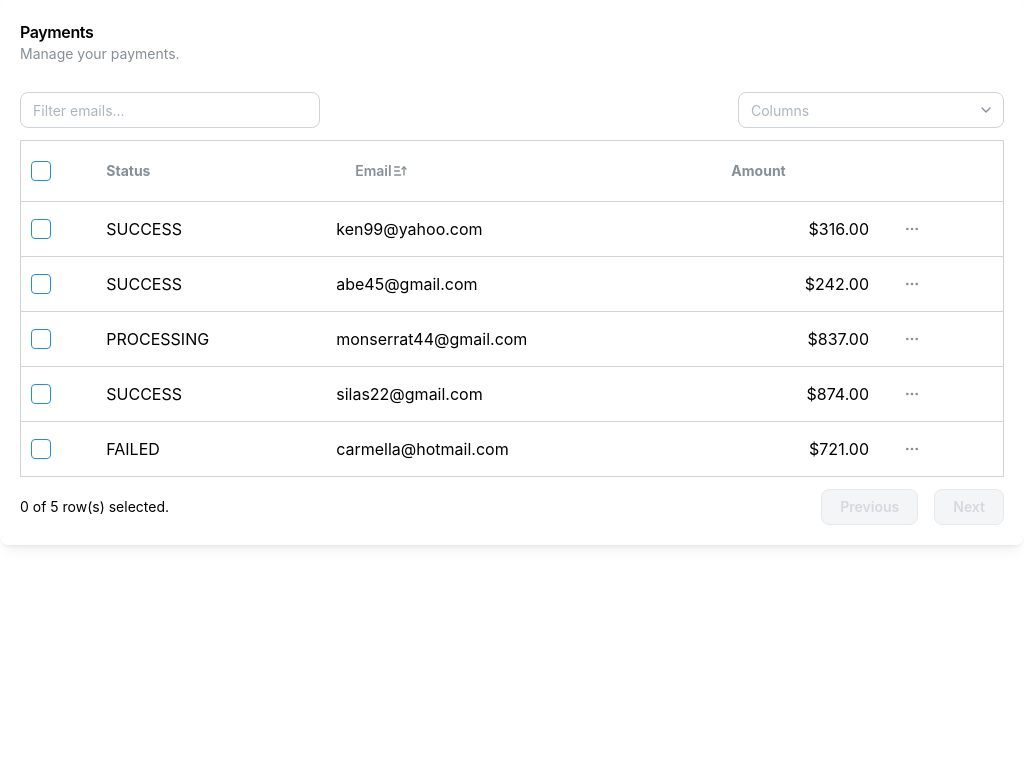
Test: hides and restores columns by their column IDs
Click the dropdown with placeholder "Columns" at (871, 110), box x1=738 y1=92 x2=1004 y2=128
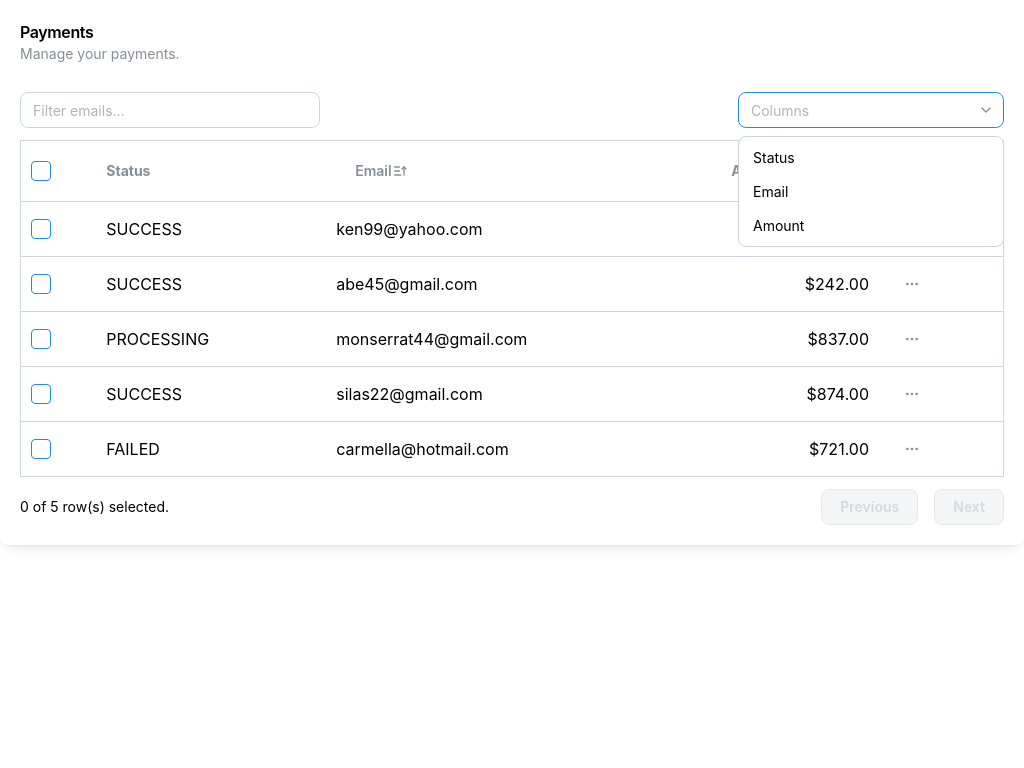
Click the option "Amount" at (779, 225), box x1=753 y1=217 x2=804 y2=234
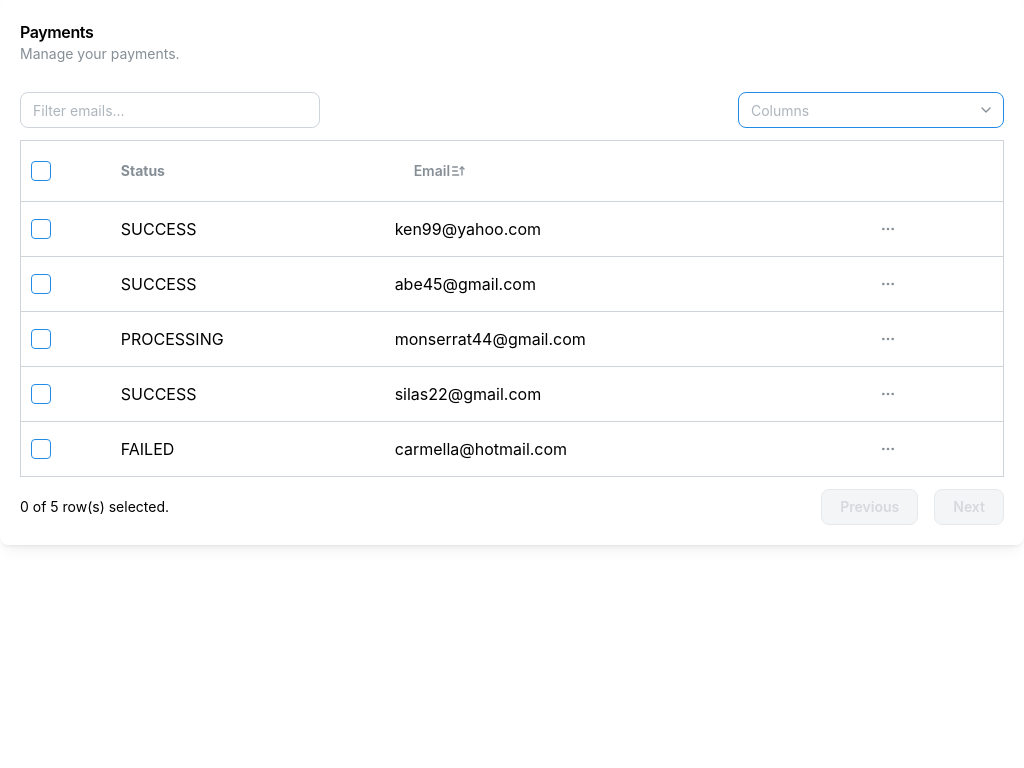
Click the dropdown with placeholder "Columns" at (871, 110), box x1=738 y1=92 x2=1004 y2=128
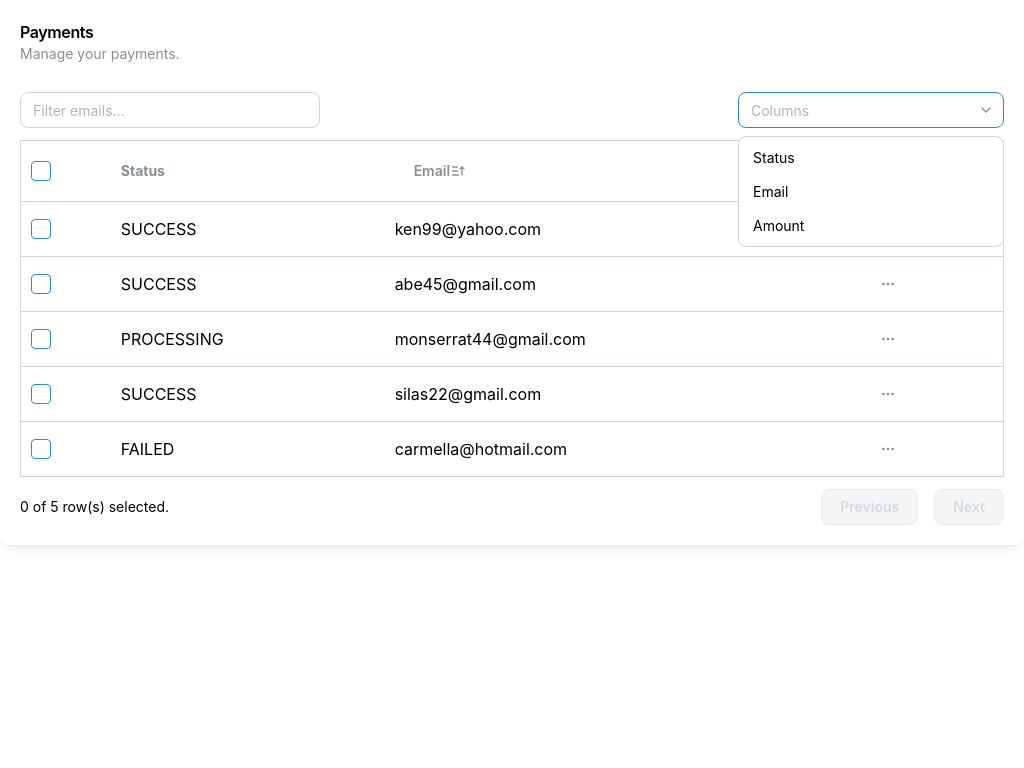
Click the option "Amount" at (779, 225), box x1=753 y1=217 x2=804 y2=234
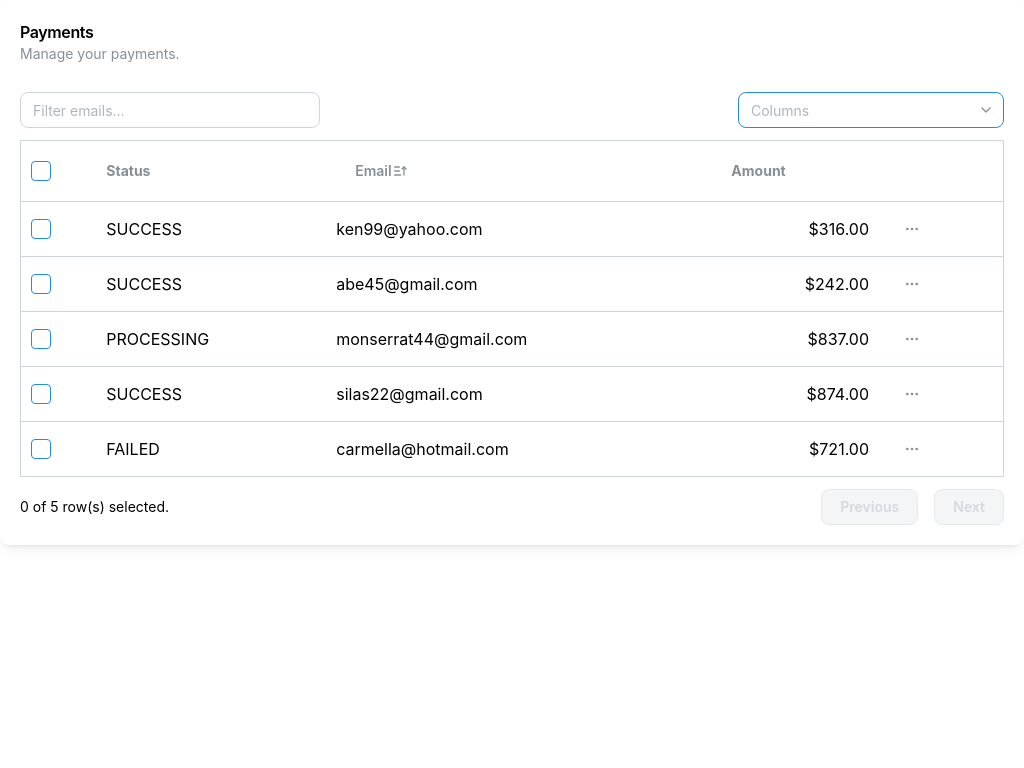
Result: the column heading "Amount" is shown at x1=721 y1=141 x2=879 y2=202
Result: the cell "$316.00" is shown at x1=721 y1=202 x2=879 y2=257
